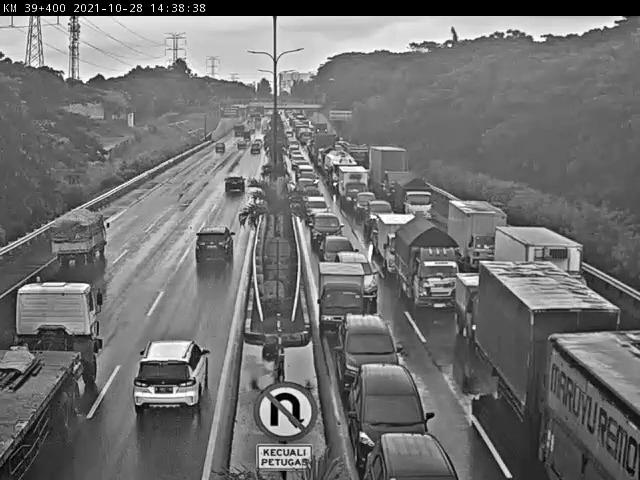big truck: (474, 259, 622, 446), (0, 283, 93, 468), (552, 328, 640, 480), (493, 223, 568, 296), (324, 149, 362, 195)
car: (338, 363, 445, 453), (132, 336, 213, 412), (358, 438, 481, 480), (340, 313, 404, 384), (191, 223, 243, 277), (337, 252, 379, 302), (368, 200, 395, 241), (314, 214, 344, 250), (324, 235, 359, 264), (305, 194, 332, 225), (298, 166, 326, 189), (354, 193, 380, 216), (222, 177, 244, 199), (298, 178, 316, 187)
small truck: (393, 223, 461, 313), (37, 201, 123, 272), (318, 264, 386, 337), (448, 201, 507, 278), (379, 215, 425, 280), (459, 268, 496, 335), (396, 178, 436, 220), (340, 169, 370, 201)
